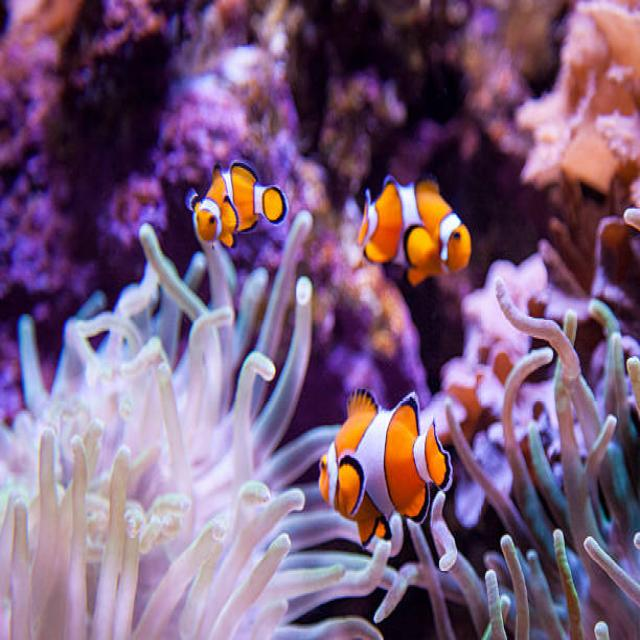ClownFish: (319, 388, 452, 544), (359, 171, 472, 279), (192, 157, 288, 248)
